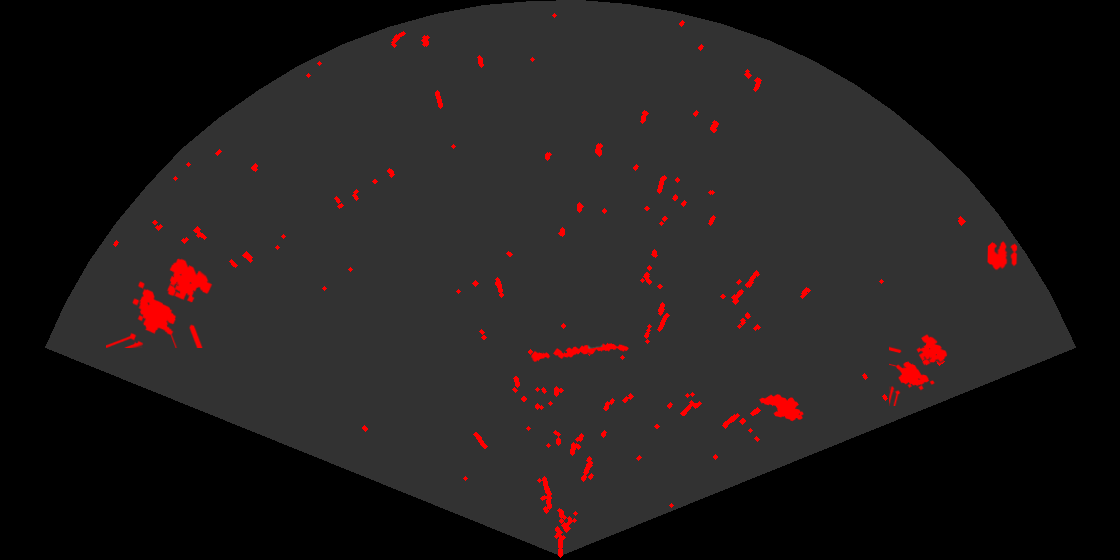AUV: (758, 393, 805, 423)
ball: (986, 239, 1019, 272)
cage: (106, 257, 214, 348), (889, 333, 949, 406)
chain: (528, 341, 630, 363)
